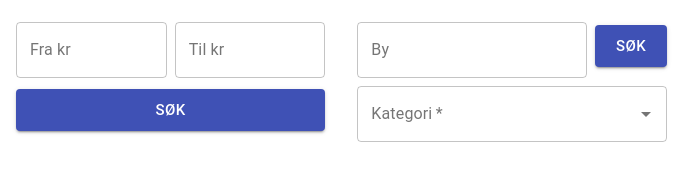
Test: Filter component › Price not valid
This screenshot has width=685, height=178.
Type "120" into the field with id "min" at (91, 50), box [16, 22, 167, 78]
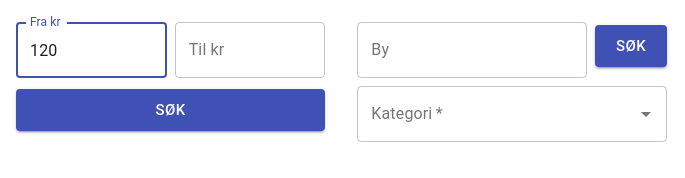
Type "200" into the field with id "max" at (250, 50), box [175, 22, 325, 78]
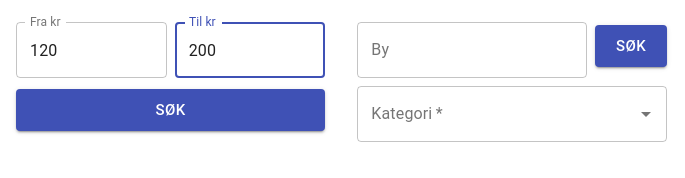
Type "Oslo" into the field with id "city" at (472, 50), box [357, 22, 587, 78]
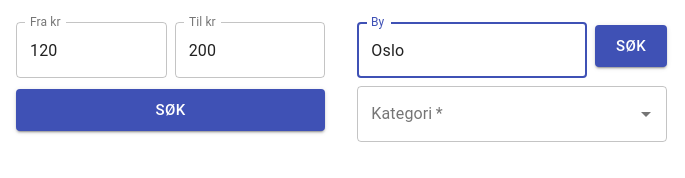
Replace the text in the field with id "min" with "1899" at (91, 50), box [16, 22, 167, 78]
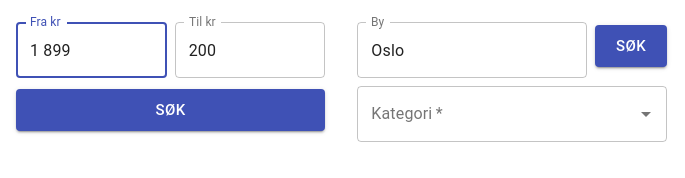
Click the button with id "searchPrice" at (171, 110), box [16, 89, 325, 131]
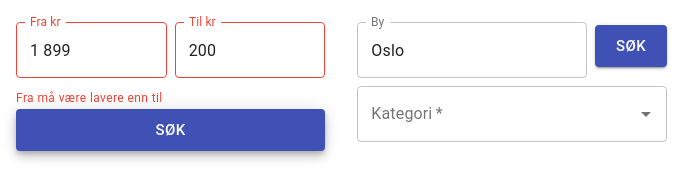
Result: the text "Fra må være lavere enn til" is shown at [16, 91, 163, 105]
